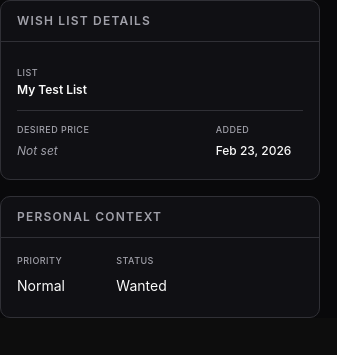
it: WishlistItemSidebar — US3 Desired Price inline edit › clicking price field reveals text input
Click the button with aria-label "Edit Desired Price": (57, 150) x1=13 y1=138 x2=100 y2=162
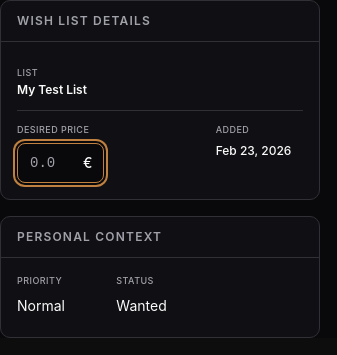
Check: the field is shown, box x1=17 y1=142 x2=104 y2=182
